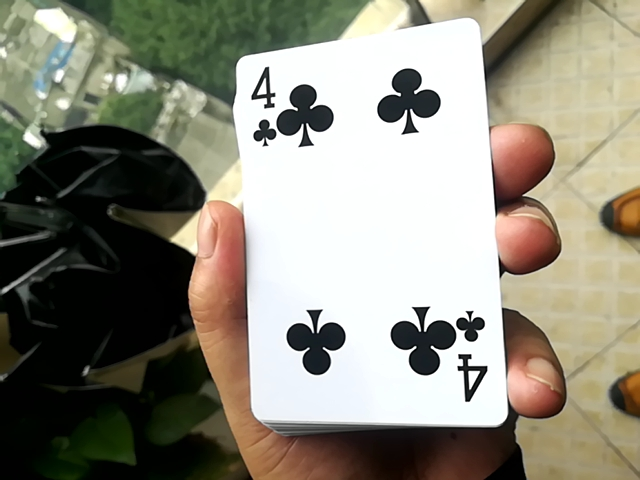mh 4: (220, 5, 490, 430)
